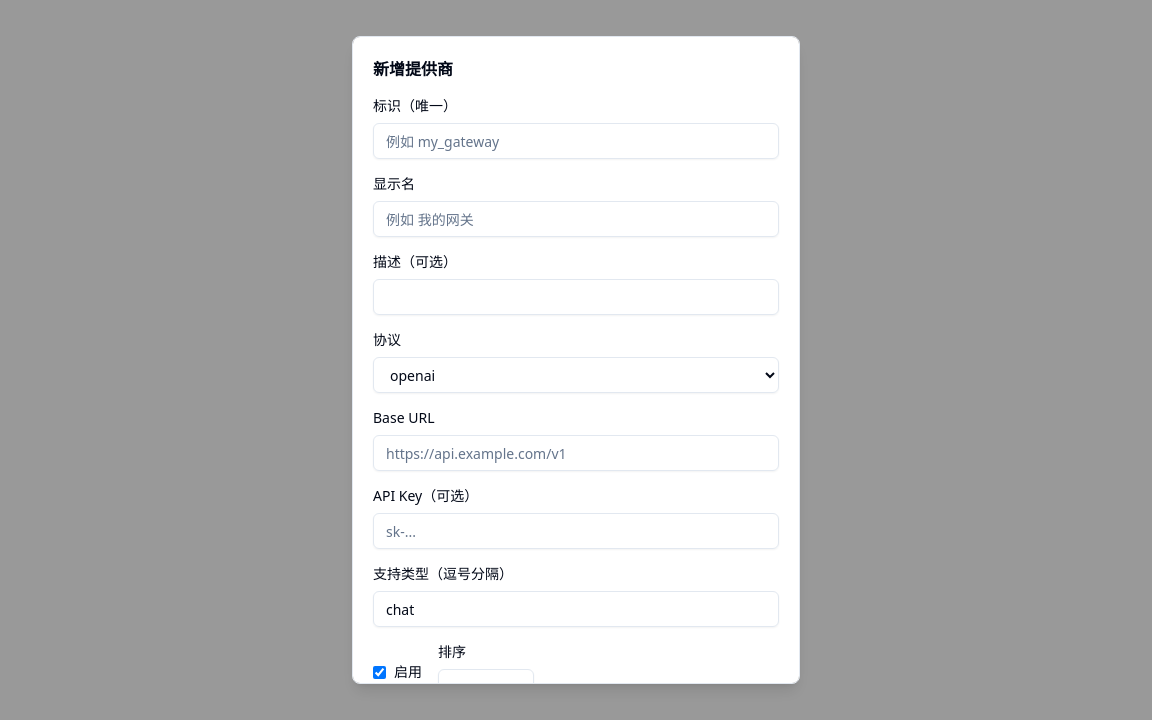
Test: LlmProviderFormModal › 非法标识（含大写）→ 校验拦截，不调接口
Type "BadName" into the field labelled "标识（唯一）" at (576, 141), box [373,123,779,159]
(page scrolled)
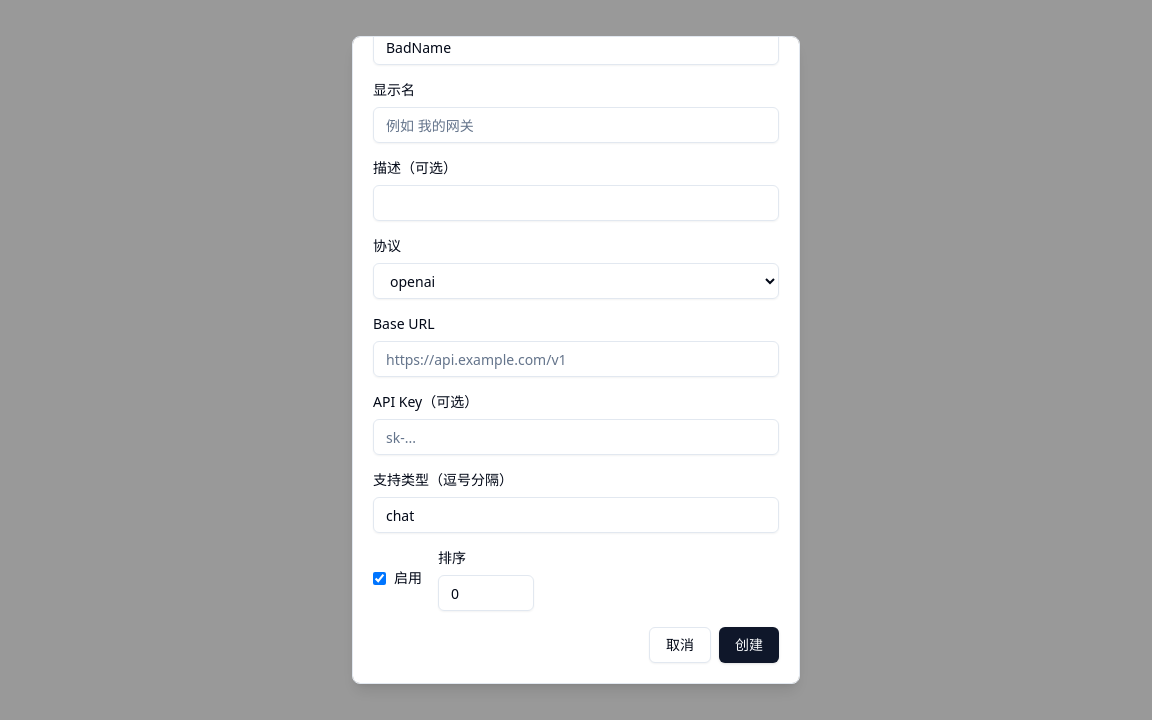
Click the button "创建" at (749, 645), box [719,627,779,663]
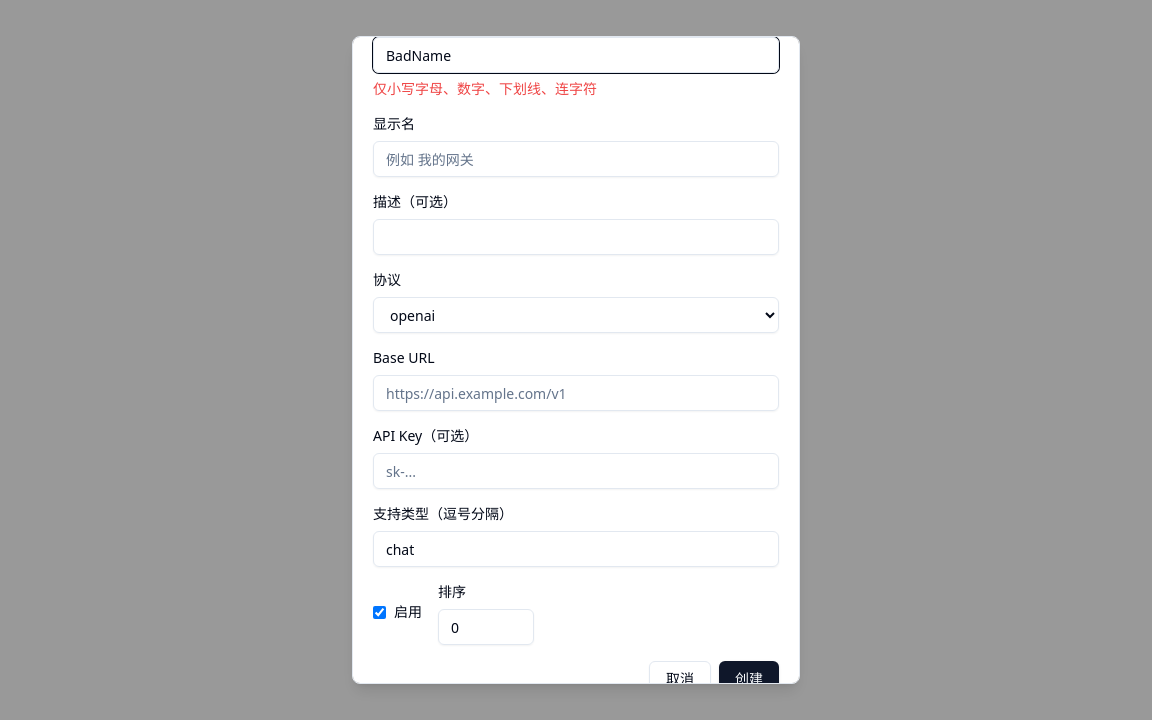
Expected: the text "仅小写字母、数字、下划线、连字符" is shown, [373,79,597,98]
